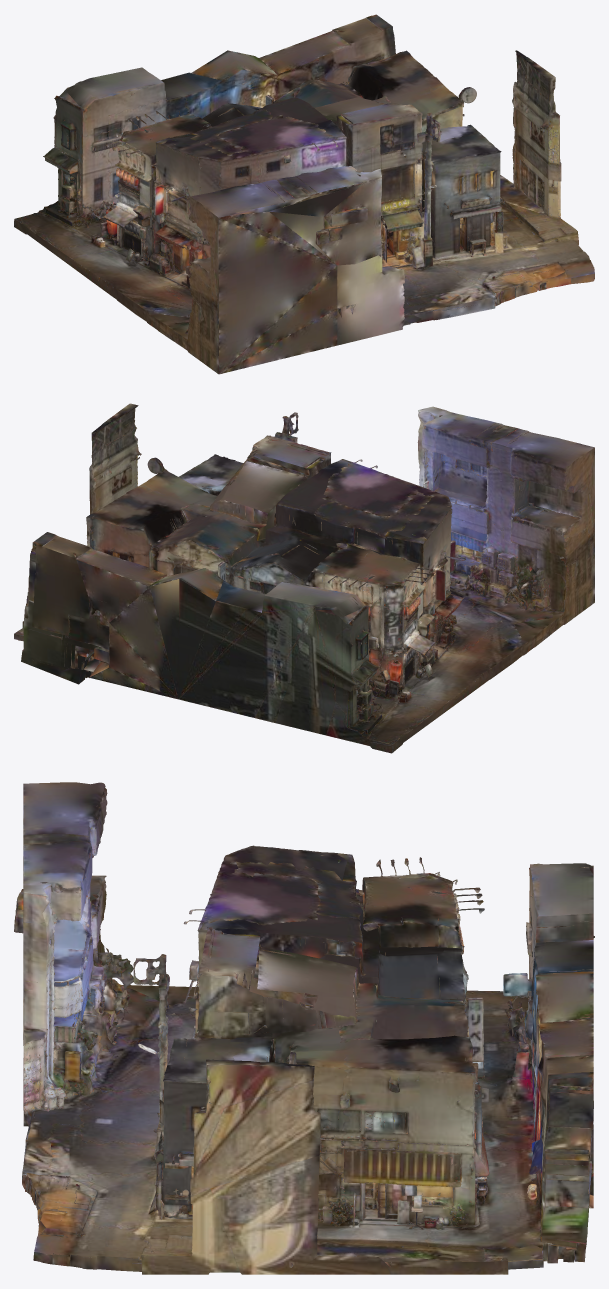
File: japan_scene.glb
3 renders of one model, top to bottom at view 1: azimuth 30°, elevation 25°; view 2: azimuth 150°, elevation 25°; view 3: azimuth 270°, elevation 25°, orthographic. The views are drawn at different scales.
Visible parts, largest first — view 1: _gltfNode_6_0; view 2: _gltfNode_6_0; view 3: _gltfNode_6_0.
Boxes of the visible parts, box(x1,y1,x2,y2) form: _gltfNode_6_0: box(14, 14, 594, 374); _gltfNode_6_0: box(14, 403, 594, 753); _gltfNode_6_0: box(14, 782, 594, 1274).
Size of the model in its own units: 31.42 by 13.1 by 28.21.
Materials: 1 (1 with a texture image).
